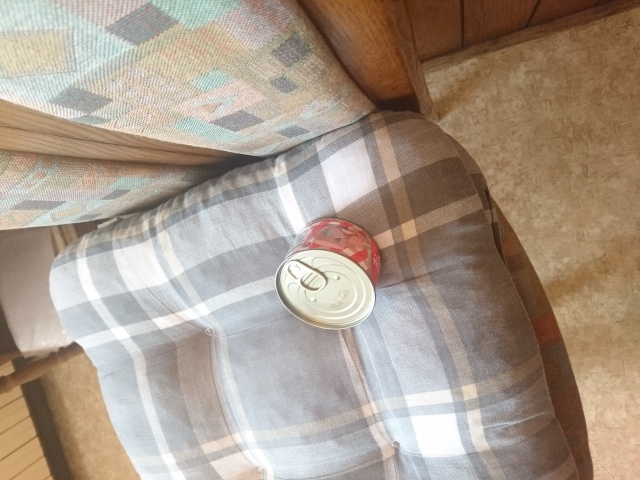Podravka Luncheon Meat 150g: (271, 214, 385, 334)
